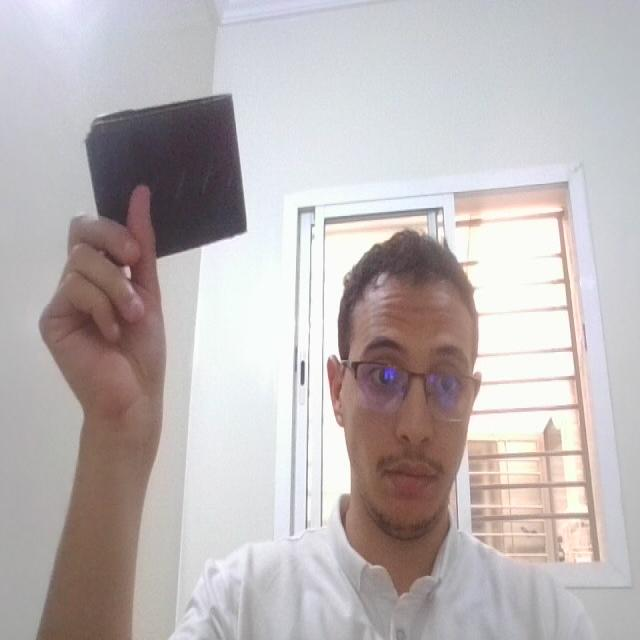wallet: (70, 87, 258, 273)
